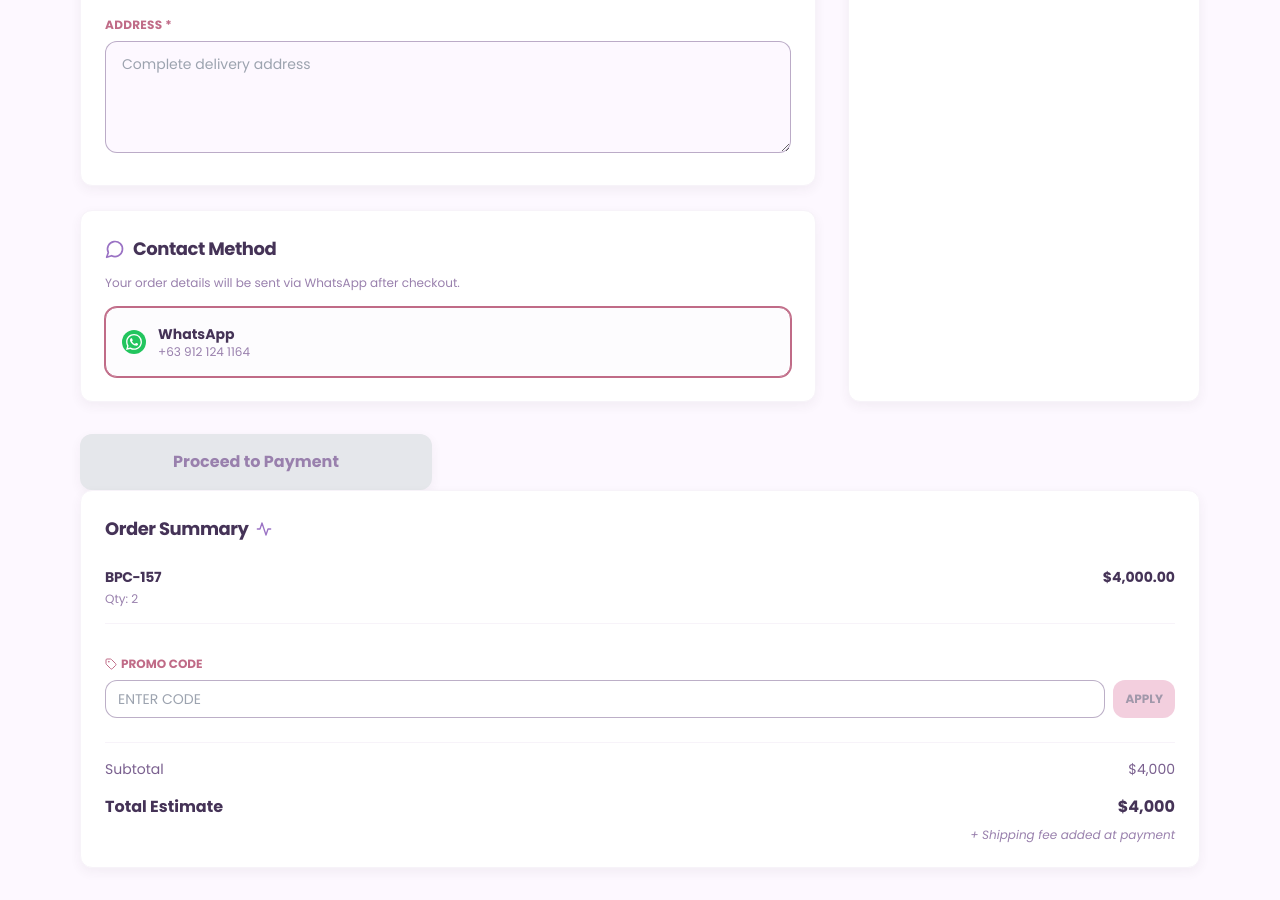
Checkout component › promo code › shows error for expired promo code
(page scrolled)
Type "EXPIRED" into the field with placeholder "ENTER CODE" at coordinates (605, 699), box [105,680,1105,718]
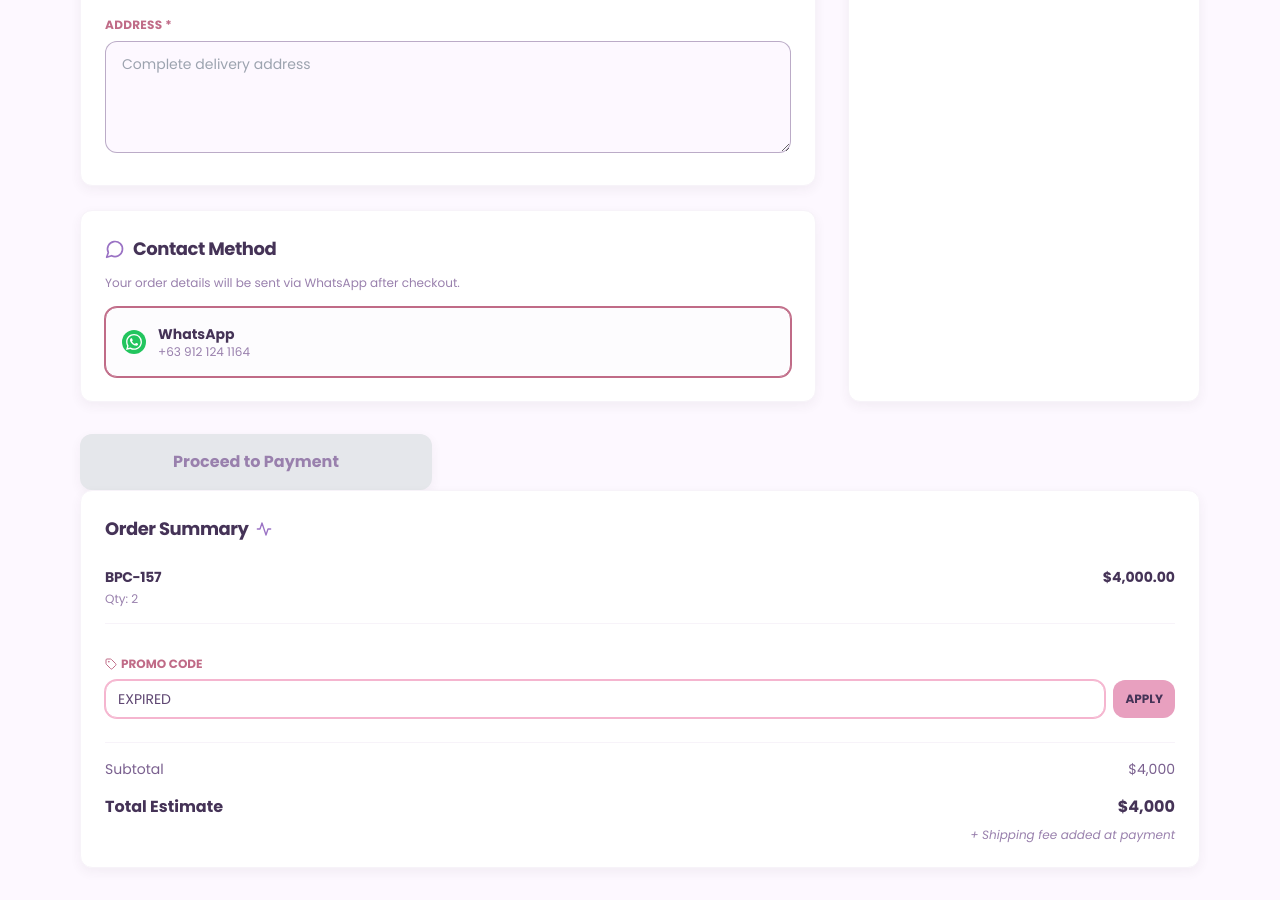
Click the button "APPLY" at coordinates (1144, 699), box [1113,680,1175,718]
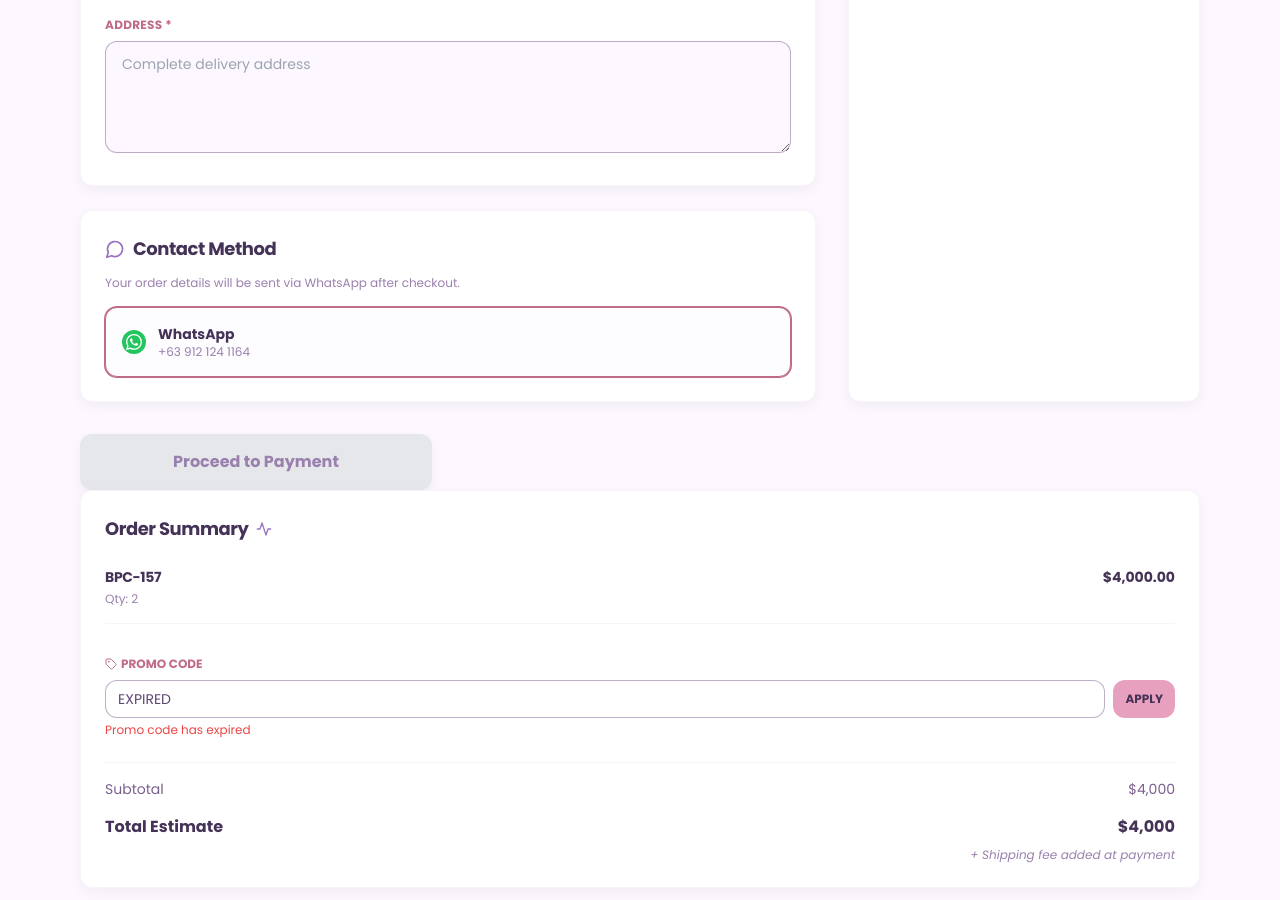
Now the text "Promo code has expired" is shown, box [105,721,251,738]
